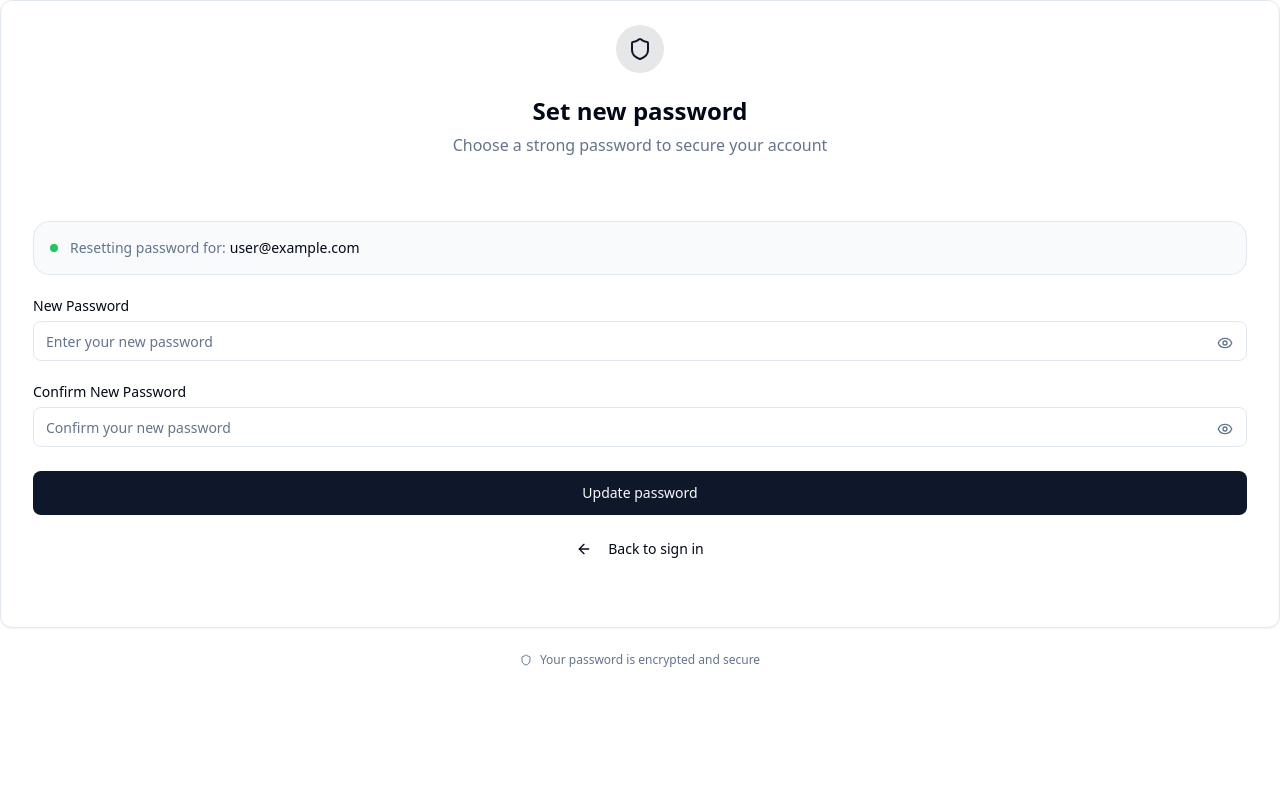
Test: ResetPasswordForm › validates password requirements
The image size is (1280, 800).
Click the button "Update password": (640, 493) x1=33 y1=471 x2=1247 y2=515
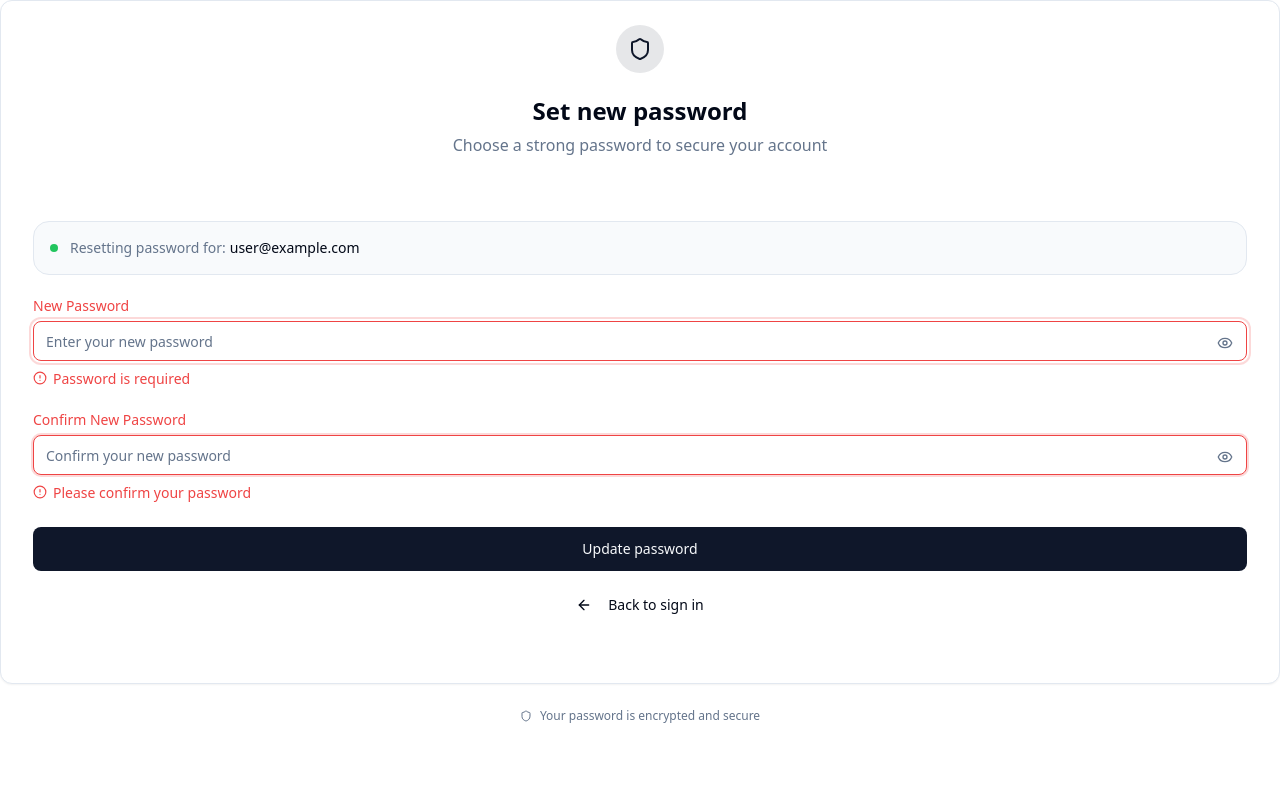
Check: the text "Password is required" is shown, box x1=53 y1=369 x2=190 y2=389
